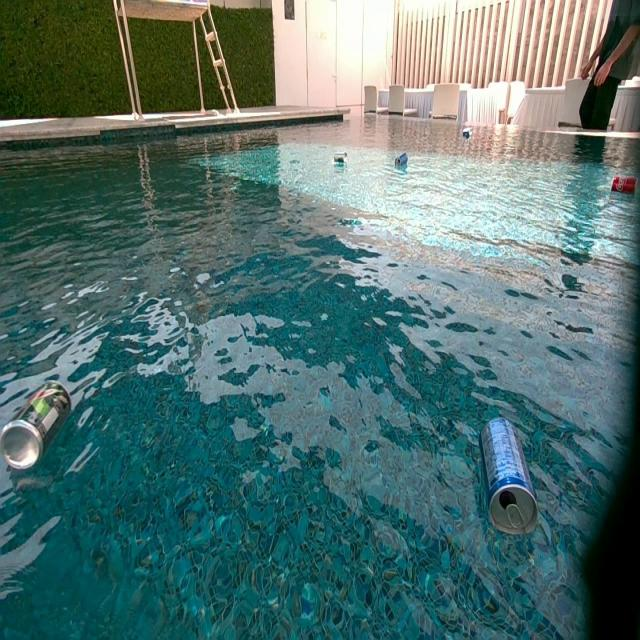Cans: (477, 416, 538, 537), (0, 380, 73, 470), (612, 176, 638, 195), (335, 151, 348, 165), (394, 152, 407, 166), (461, 129, 471, 139)
